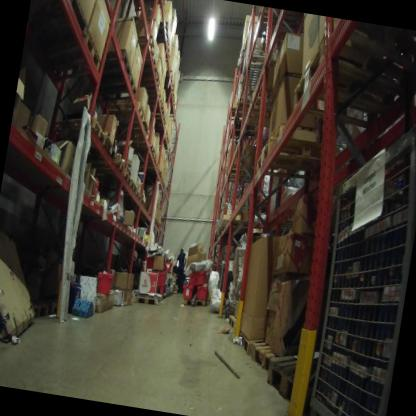pallet: (285, 38, 416, 144), (242, 6, 308, 131), (33, 0, 158, 61), (318, 21, 416, 92), (98, 97, 149, 203), (251, 132, 342, 189), (29, 20, 107, 85), (76, 47, 142, 105), (259, 343, 315, 405), (49, 103, 109, 156), (269, 117, 342, 160), (79, 132, 127, 179), (127, 287, 210, 310), (236, 329, 271, 365), (249, 339, 278, 380), (222, 164, 247, 195), (223, 312, 246, 342), (119, 161, 138, 197), (131, 60, 156, 83), (118, 169, 134, 189), (138, 198, 149, 210), (135, 188, 142, 202)
small_load_carrier: (179, 278, 216, 306), (94, 266, 119, 296), (183, 264, 208, 287), (149, 269, 170, 296)
stillage: (301, 110, 416, 416)
